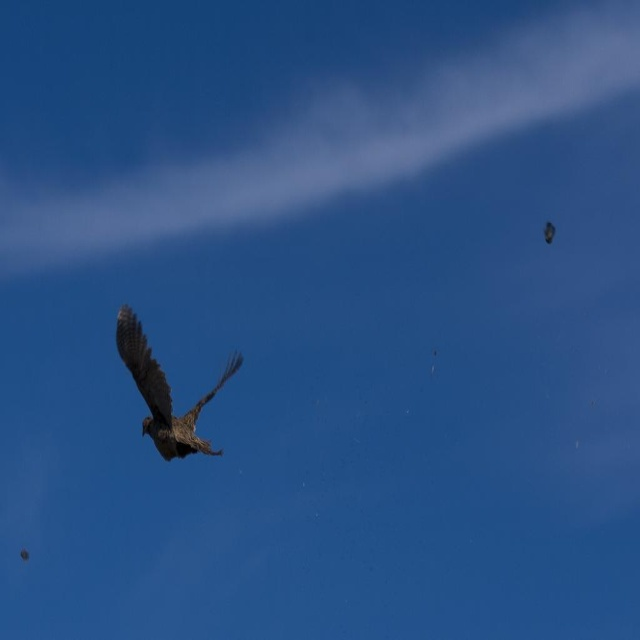Eagle: (112, 298, 249, 468)
